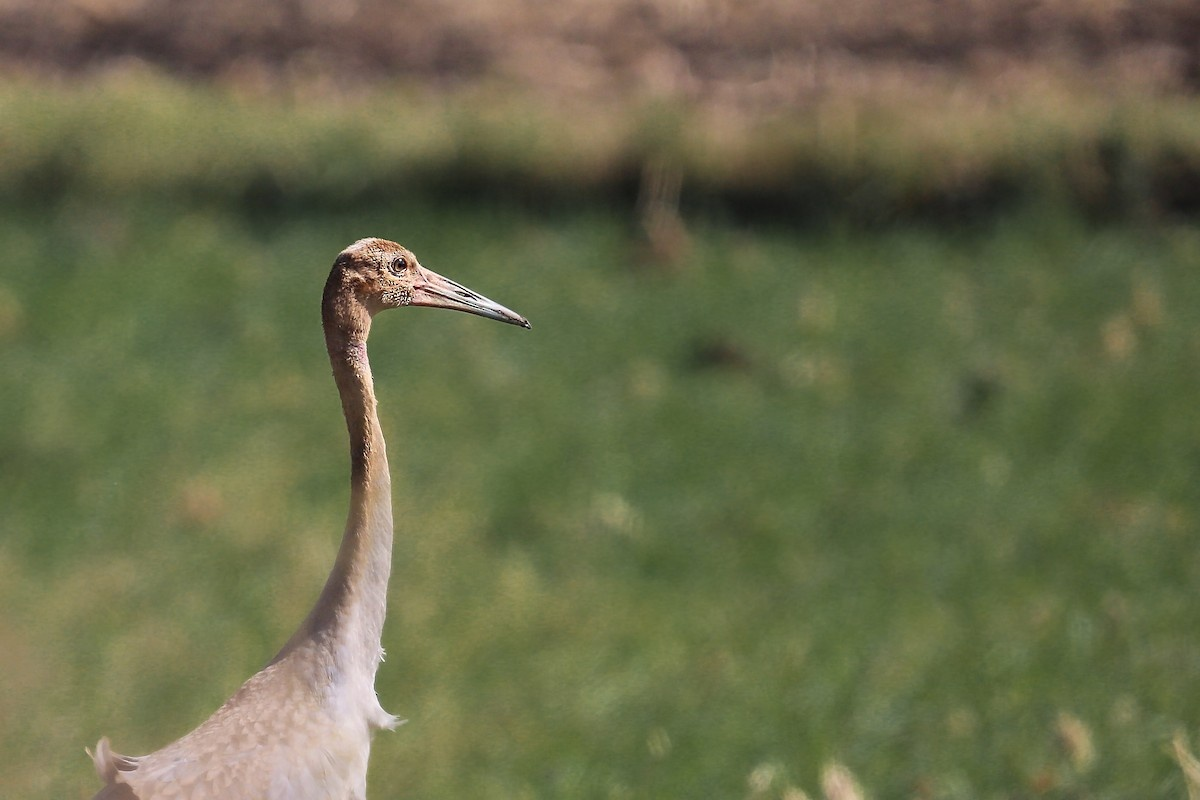crane: (121, 237, 541, 800)
